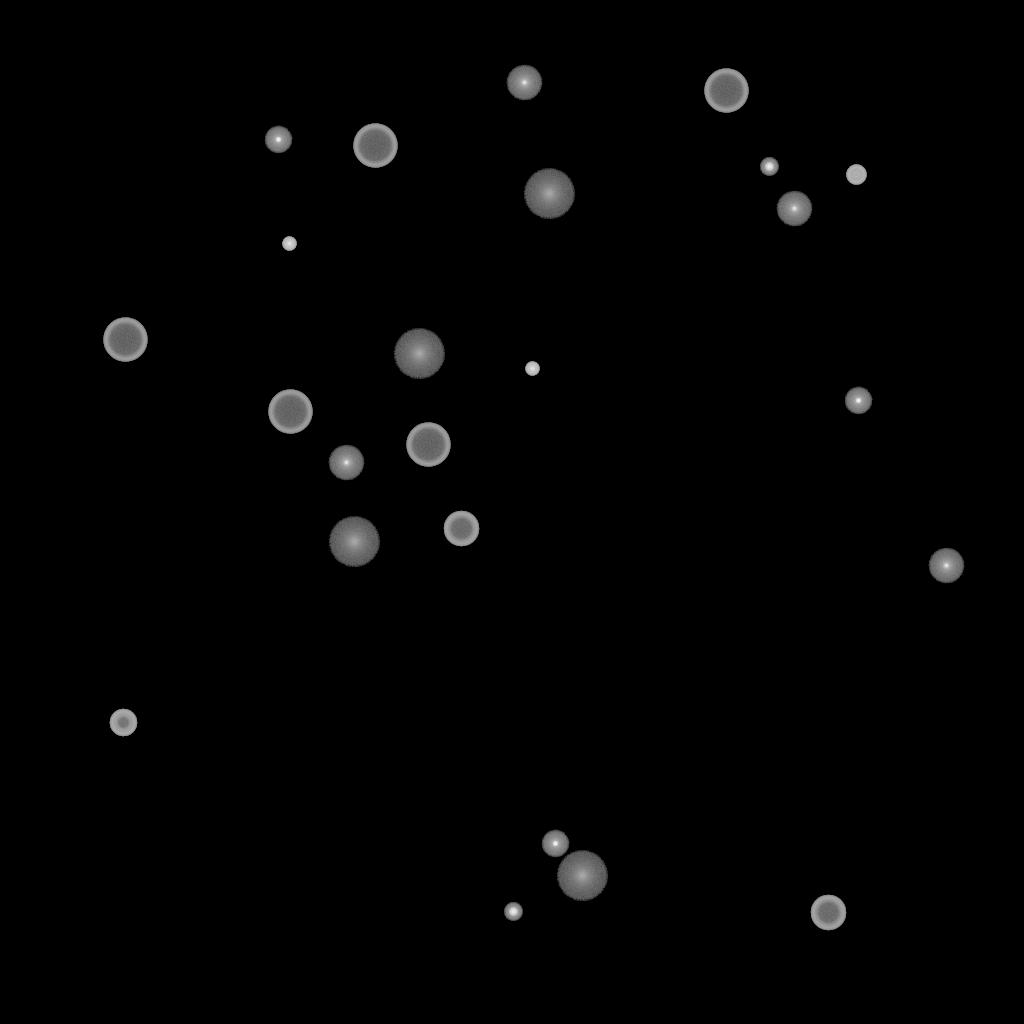depth:-10: (264, 126, 292, 154), (541, 830, 569, 858), (844, 387, 872, 415)
depth:-20: (504, 903, 522, 921), (760, 158, 778, 176)
depth:-30: (282, 237, 296, 251), (525, 362, 539, 376)
depth:-40: (846, 165, 866, 185)
depth:-50: (109, 709, 137, 737)
depth:-60: (443, 511, 479, 547), (810, 895, 846, 931)
depth:-70: (353, 124, 397, 168), (406, 423, 450, 467), (268, 390, 312, 434), (103, 318, 147, 362), (704, 69, 748, 113)
depth:0: (506, 65, 542, 101), (328, 445, 364, 481), (928, 548, 964, 584), (776, 191, 812, 227)
depth:20: (523, 169, 575, 219), (328, 517, 380, 567), (556, 851, 608, 901), (393, 329, 445, 379)
